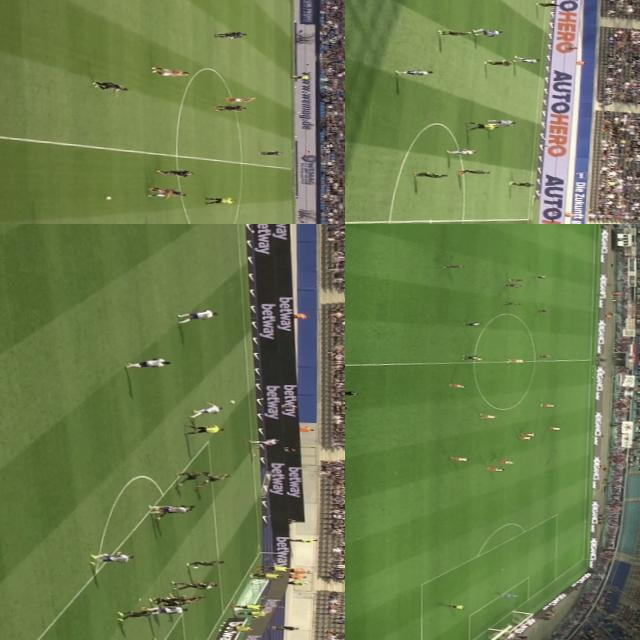ball: (102, 193, 115, 201), (228, 396, 240, 403), (504, 360, 509, 362)
player: (84, 548, 136, 566), (177, 308, 221, 324), (122, 356, 172, 370), (116, 606, 158, 622), (153, 503, 194, 518), (173, 468, 210, 484), (187, 402, 223, 417), (148, 504, 192, 516), (195, 471, 229, 486), (169, 592, 210, 604), (149, 604, 189, 616), (88, 79, 130, 89), (186, 558, 226, 568), (156, 597, 192, 608), (151, 66, 189, 76), (172, 580, 214, 589), (152, 592, 186, 603), (250, 436, 278, 448), (178, 582, 220, 590), (474, 27, 505, 37), (215, 103, 249, 112), (156, 187, 190, 196), (155, 168, 193, 176), (413, 170, 450, 178), (438, 27, 470, 36), (216, 29, 246, 38), (148, 186, 174, 196), (488, 118, 518, 126), (397, 68, 434, 74), (458, 169, 488, 176), (259, 148, 284, 156), (486, 58, 514, 65), (499, 590, 522, 598), (449, 146, 475, 153), (227, 94, 257, 100), (515, 54, 539, 61), (507, 181, 535, 187), (446, 455, 471, 461), (459, 354, 481, 360), (536, 1, 562, 6), (480, 412, 498, 419), (502, 282, 522, 288), (462, 320, 482, 326), (443, 263, 465, 268), (503, 300, 521, 306), (448, 382, 466, 388), (538, 401, 556, 407), (538, 306, 554, 312), (534, 274, 549, 280), (498, 458, 513, 464), (506, 357, 524, 362), (486, 466, 504, 470), (540, 353, 554, 358), (518, 435, 532, 439), (508, 277, 526, 280), (548, 426, 562, 428), (522, 432, 536, 434)
